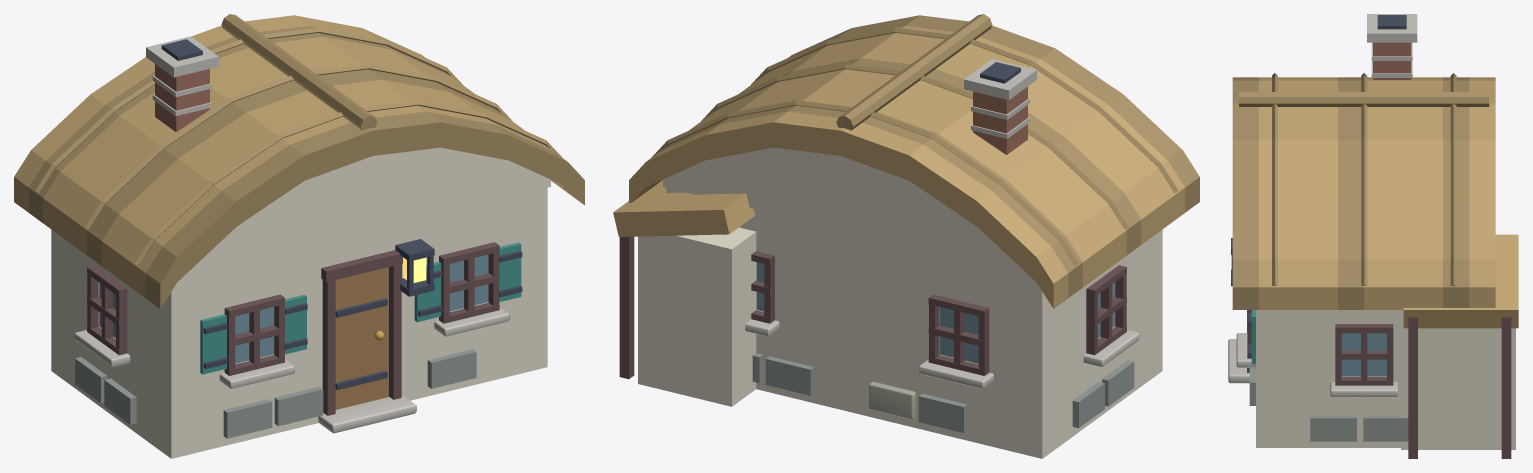
Rendered from cottage_long.glb.
3 views of the same model, side by side, from view 1: azimuth 30°, elevation 25°; view 2: azimuth 150°, elevation 25°; view 3: azimuth 270°, elevation 25° (orthographic). The views are drawn at different scales.
Parts seen in each view (by area): view 1: cottage_long_rounded_gable, cottage_long_thatch_bundle, cottage_long_thatch_bundle.003, cottage_long_oak_door, cottage_long_thatch_bundle.004, cottage_long_thatch_bundle.002, cottage_long_thatch_bundle.009, cottage_long_thatch_bundle.006, cottage_long_thatch_bundle.007, cottage_long_low_wall, cottage_long_thatch_bundle.001, cottage_long_thatch_bundle.005 (+57 smaller); view 2: Long_cottage_lean_to_body, cottage_long_rounded_gable.001, cottage_long_thatch_bundle.009, cottage_long_low_wall.036, cottage_long_low_wall.037, cottage_long_low_wall.038, cottage_long_thatch_bundle, cottage_long_thatch_bundle.007, cottage_long_thatch_bundle.006, cottage_long_thatch_bundle.002, Long_cottage_lean_to_thatch, cottage_long_thatch_bundle.003 (+34 smaller); view 3: Long_cottage_lean_to_body, cottage_long_thatch_bundle, cottage_long_thatch_bundle.009, cottage_long_thatch_bundle.002, cottage_long_thatch_bundle.003, cottage_long_thatch_bundle.006, cottage_long_thatch_bundle.007, cottage_long_thatch_bundle.004, cottage_long_thatch_bundle.005, cottage_long_thatch_bundle.001, cottage_long_thatch_bundle.008, cottage_long_low_wall.023 (+27 smaller).
Part boxes in pixels (x1,y1,x2,y2): cottage_long_rounded_gable: (184,147,550,276); cottage_long_thatch_bundle: (145,111,584,308); cottage_long_thatch_bundle.003: (101,79,523,276); cottage_long_oak_door: (335,267,388,409); cottage_long_thatch_bundle.004: (87,69,508,265); cottage_long_thatch_bundle.002: (116,90,554,287); cottage_long_thatch_bundle.009: (14,15,424,212); cottage_long_thatch_bundle.006: (58,47,474,244); cottage_long_thatch_bundle.007: (43,36,464,233); cottage_long_low_wall: (165,369,230,458); cottage_long_thatch_bundle.001: (131,101,569,297); cottage_long_thatch_bundle.005: (72,58,430,255); Long_cottage_lean_to_body: (638,227,756,406); cottage_long_rounded_gable.001: (663,147,1029,276); cottage_long_thatch_bundle.009: (629,111,1068,308); cottage_long_low_wall.036: (769,314,939,433); cottage_long_low_wall.037: (775,262,939,354); cottage_long_low_wall.038: (769,212,939,299); cottage_long_thatch_bundle: (788,15,1199,212); cottage_long_thatch_bundle.007: (661,90,1097,287); cottage_long_thatch_bundle.006: (691,79,1111,276); cottage_long_thatch_bundle.002: (749,36,1170,233); Long_cottage_lean_to_thatch: (613,180,754,236); cottage_long_thatch_bundle.003: (739,47,1155,244); Long_cottage_lean_to_body: (1401,310,1515,449); cottage_long_thatch_bundle: (1232,77,1258,309); cottage_long_thatch_bundle.009: (1469,77,1495,307); cottage_long_thatch_bundle.002: (1285,77,1311,309); cottage_long_thatch_bundle.003: (1311,77,1337,309); cottage_long_thatch_bundle.006: (1390,77,1416,309); cottage_long_thatch_bundle.007: (1417,77,1442,307); cottage_long_thatch_bundle.004: (1338,77,1364,309); cottage_long_thatch_bundle.005: (1364,77,1390,309); cottage_long_thatch_bundle.001: (1259,77,1285,309); cottage_long_thatch_bundle.008: (1443,77,1469,307); cottage_long_low_wall.023: (1268,377,1341,447).
Size of the model in its own units: 6.4 by 4.75 by 4.16.
